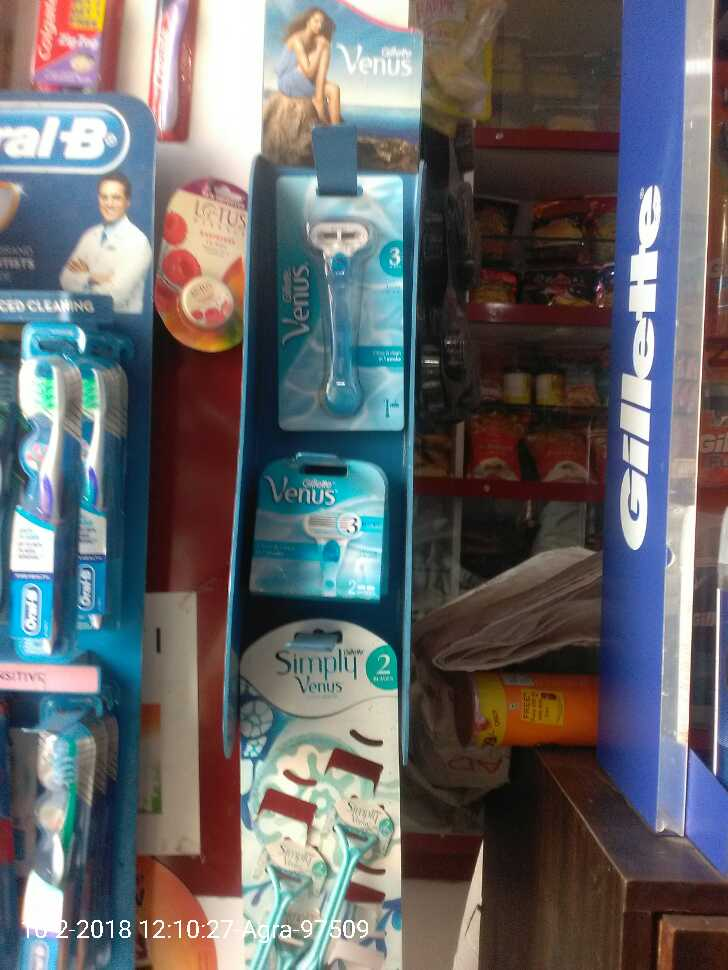beauty: (272, 165, 411, 432), (252, 444, 391, 607)
pharmacy: (11, 343, 54, 666), (69, 359, 105, 616)
